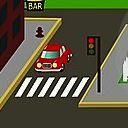car: (35, 43, 74, 74)
